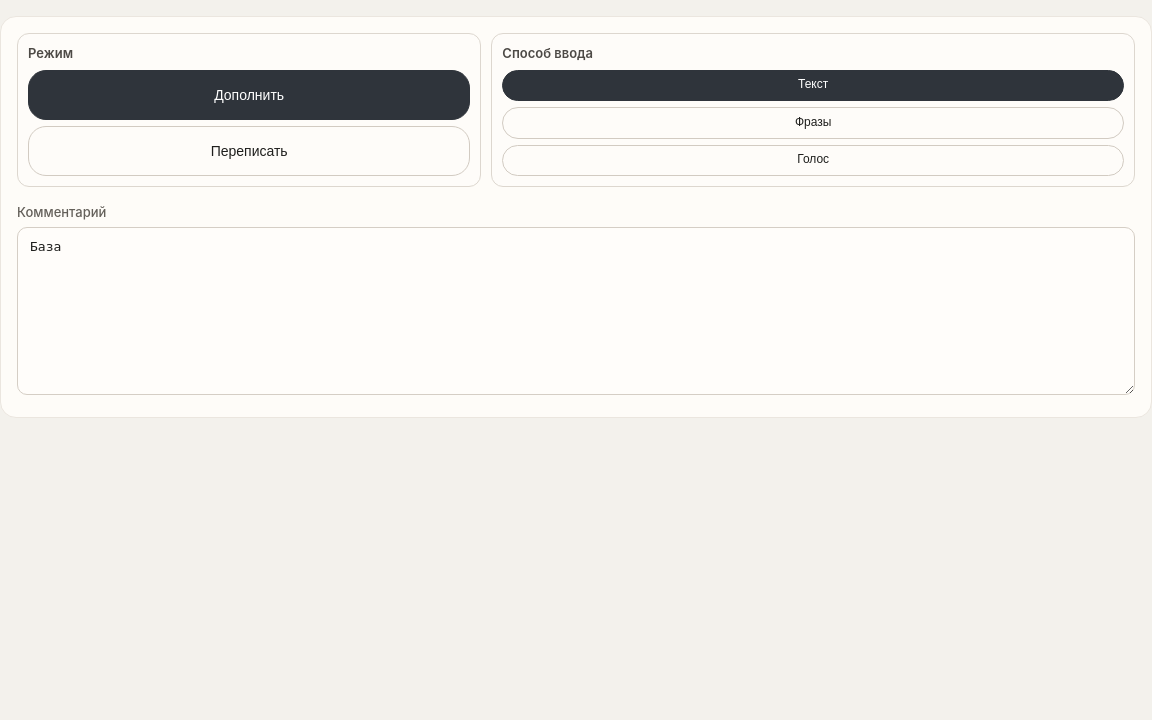
Test: CommentComposer › shows a controlled error state when recognition start throws
Click the button "Голос" at (813, 160), box [502,144,1124,176]
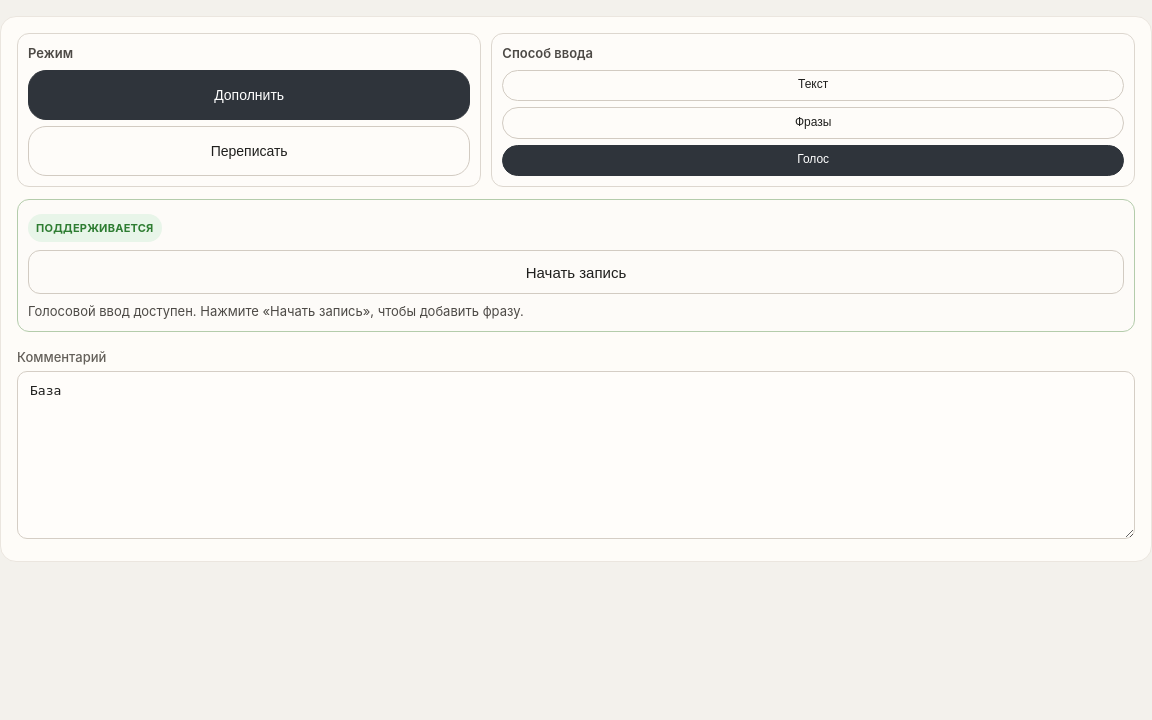
Click the button "Начать запись" at (576, 272), box [28,250,1124,294]
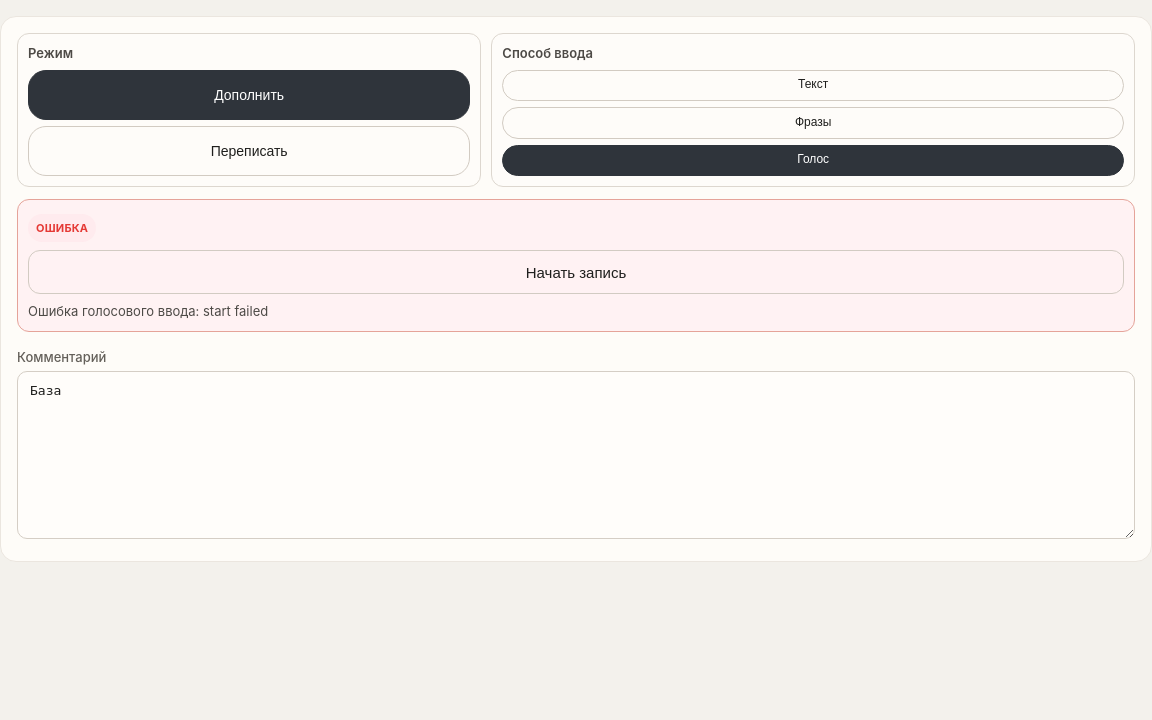
Expected: the text "Ошибка" is shown, [28,214,96,242]
Expected: the text "Ошибка голосового ввода: start failed" is shown, [28,303,268,319]
